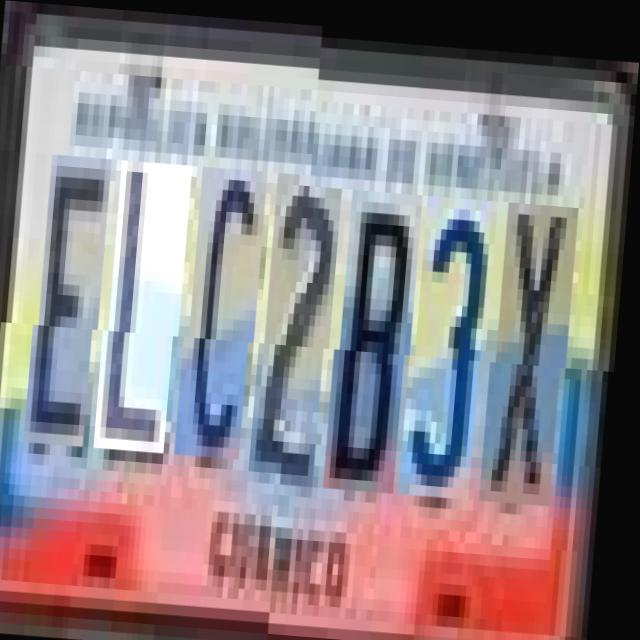2: (260, 178, 344, 482)
3: (412, 188, 501, 492)
B: (336, 184, 425, 486)
C: (186, 174, 270, 466)
E: (36, 164, 113, 456)
L: (106, 169, 194, 461)
X: (492, 194, 581, 496)
